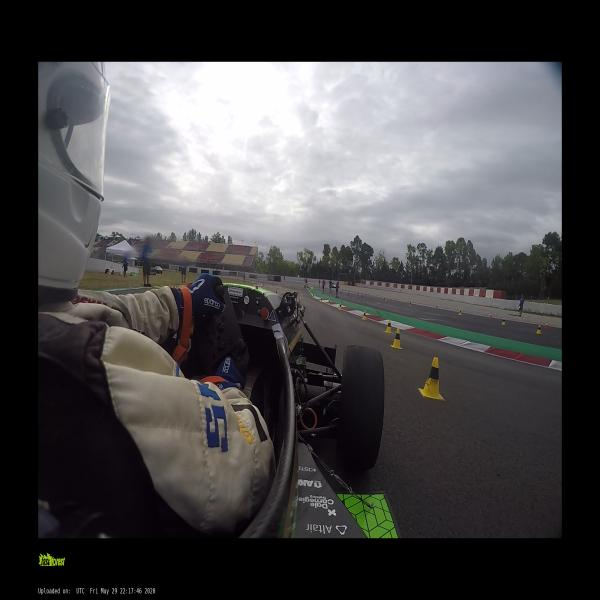orange_cone: (544, 321, 549, 328), (489, 312, 493, 318), (282, 290, 284, 295), (436, 303, 438, 308)
yellow_cone: (419, 358, 444, 401), (391, 328, 403, 349), (384, 320, 392, 334), (536, 325, 542, 334), (361, 311, 367, 320), (501, 318, 506, 325), (338, 304, 342, 310), (458, 309, 462, 315), (327, 299, 330, 305), (408, 301, 411, 306), (320, 297, 322, 302), (312, 294, 314, 299), (301, 291, 303, 296)
